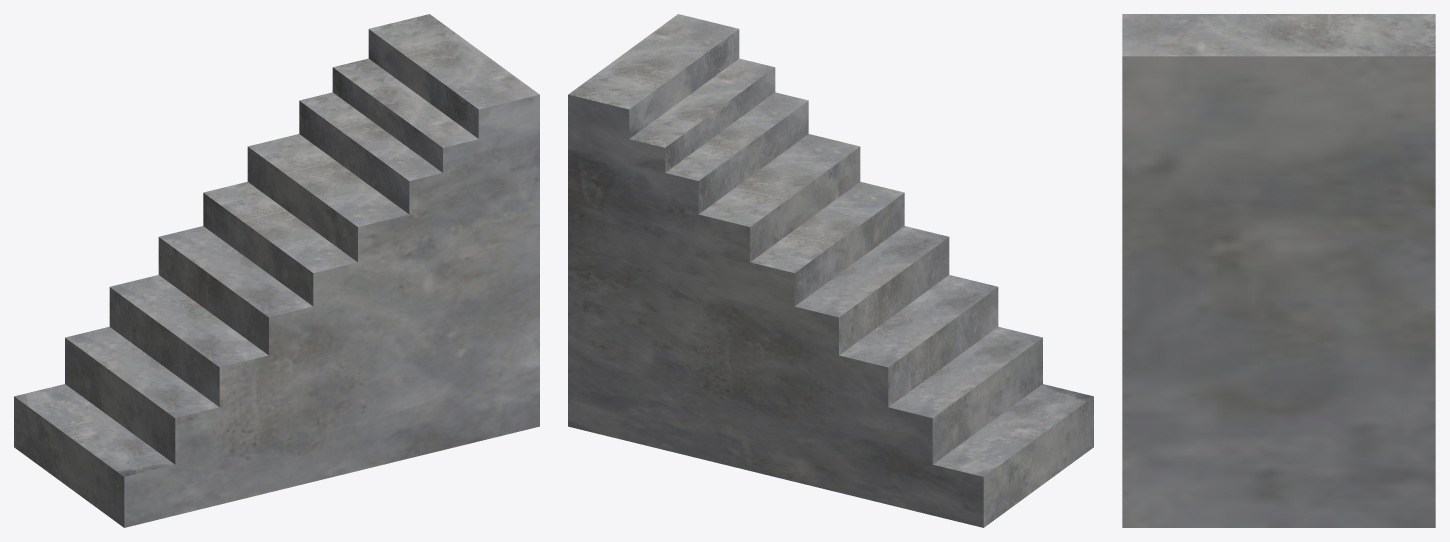
Rendered from concretestairs.glb.
3 views of the same model, side by side, from view 1: azimuth 30°, elevation 25°; view 2: azimuth 150°, elevation 25°; view 3: azimuth 270°, elevation 25° (orthographic). The views are drawn at different scales.
Parts seen in each view (by area): view 1: Plane; view 2: Plane; view 3: Plane.
Part boxes in pixels (box(x1,y1,x2,y2)): Plane: box(14, 14, 539, 527); Plane: box(568, 14, 1093, 527); Plane: box(1122, 14, 1435, 527).
Bounding box in the file's own units: 14.96 × 11.42 × 6.87.
1 material, 1 textured.
